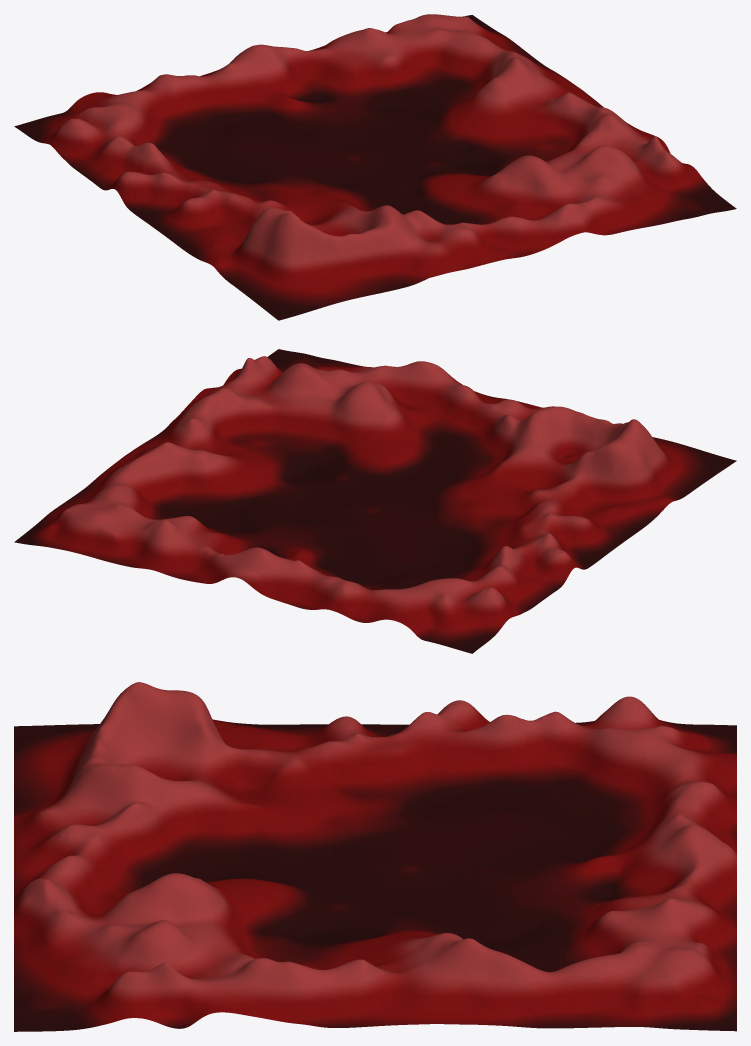
Rendered from terrain.glb.
3 views of the same model, one above another, from view 1: azimuth 30°, elevation 25°; view 2: azimuth 150°, elevation 25°; view 3: azimuth 270°, elevation 25° (orthographic). The views are drawn at different scales.
Parts seen in each view (by area): view 1: terrain_mesh_merged; view 2: terrain_mesh_merged; view 3: terrain_mesh_merged.
Boxes of the visible parts, <box> form: terrain_mesh_merged: <box>14,14,736,320</box>; terrain_mesh_merged: <box>14,349,736,653</box>; terrain_mesh_merged: <box>14,682,736,1031</box>.
Bounding box in the file's own units: 800 × 106 × 800.
Materials: 1 (1 with a texture image).
